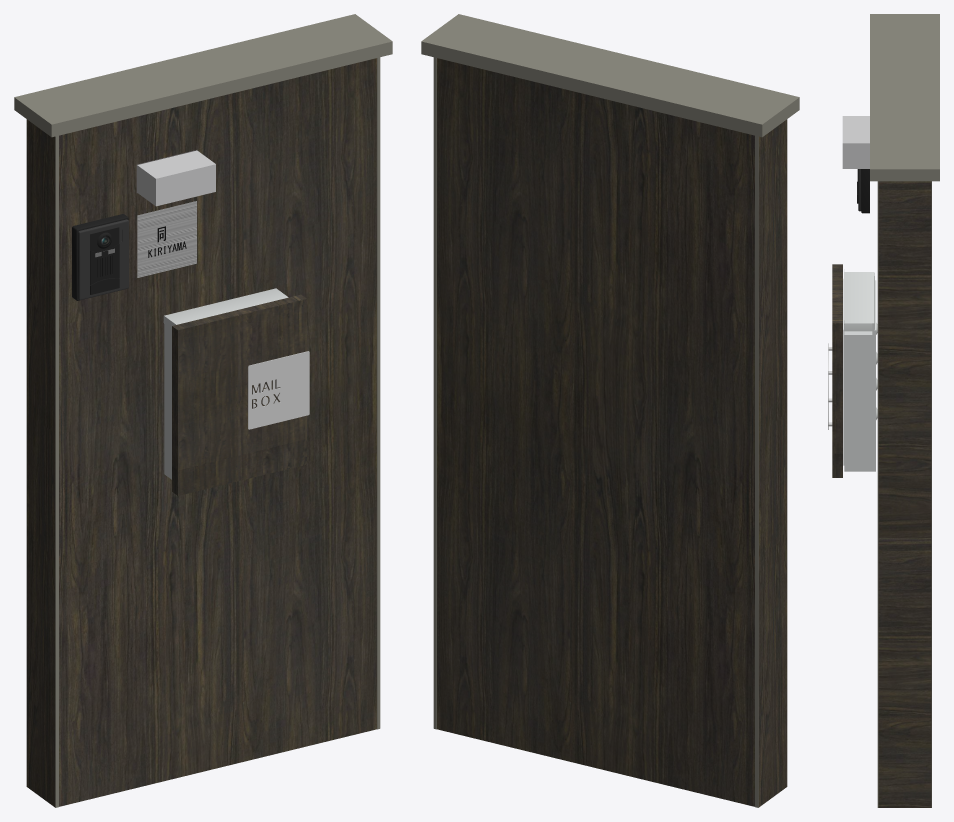
File: abmonchu_w08_blackebony.fbx
3 renders of one model, left to right at view 1: azimuth 30°, elevation 25°; view 2: azimuth 150°, elevation 25°; view 3: azimuth 270°, elevation 25°, orthographic. The views are drawn at different scales.
Parts seen in each view (by area): view 1: abmonchu_w08_brackebony; view 2: abmonchu_w08_brackebony; view 3: abmonchu_w08_brackebony.
Part boxes in pixels (x1,y1,x2,y2): abmonchu_w08_brackebony: (14,14,392,807); abmonchu_w08_brackebony: (421,14,799,807); abmonchu_w08_brackebony: (828,14,939,807).
Bounding box in the file's own units: 84 × 162 × 25.57.
Materials: 14 (8 with a texture image).
